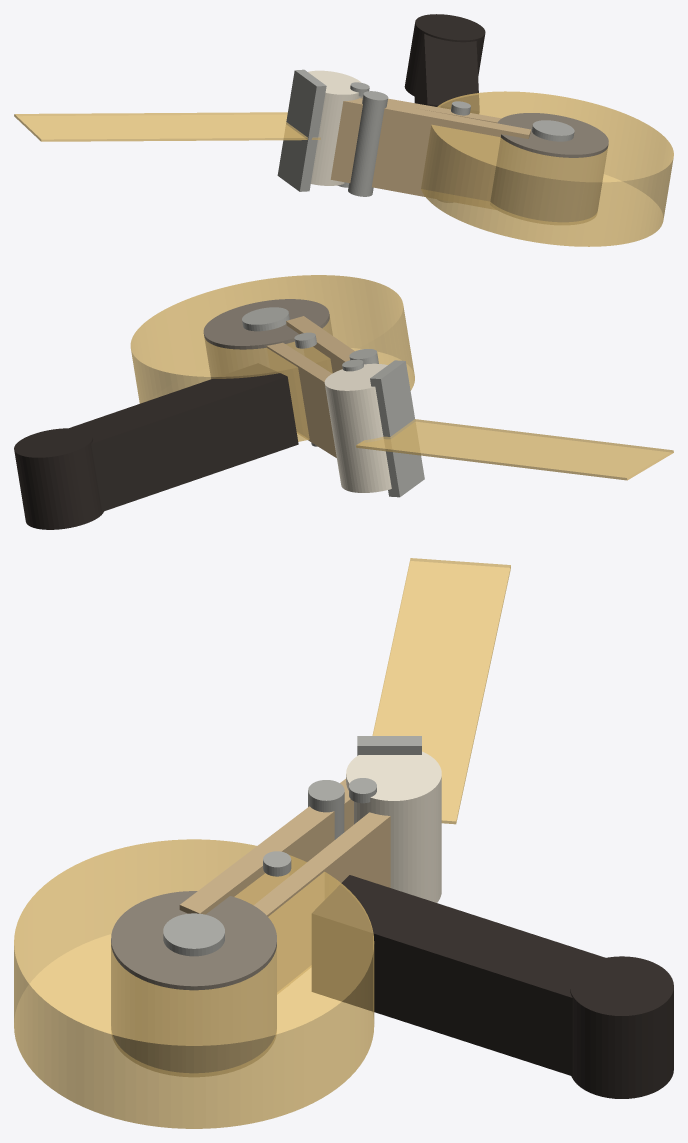
The model's file is almoxa-tape-gun.glb.
3 renders of one model, top to bottom at view 1: azimuth 30°, elevation 25°; view 2: azimuth 150°, elevation 25°; view 3: azimuth 270°, elevation 25°, orthographic. The views are drawn at different scales.
Parts seen in each view (by area): view 1: TapeRoll, FrameUpper, RollCore, TapeStrip, Handle, Cutter, PressureRoller, TensionBar, HandleCap, RollHub, FrameLower; view 2: Handle, TapeRoll, TapeStrip, HandleCap, PressureRoller, RollCore, Cutter, FrameLower, FrameUpper, RollHub; view 3: TapeRoll, Handle, RollCore, TapeStrip, HandleCap, PressureRoller, FrameLower, FrameUpper, RollHub, TensionBar, Cutter.
Part boxes in pixels (x1,y1,x2,y2): TapeRoll: (421, 91, 673, 246); FrameUpper: (330, 98, 530, 209); RollCore: (490, 113, 608, 224); TapeStrip: (14, 112, 320, 141); Handle: (414, 34, 479, 113); Cutter: (277, 69, 326, 191); PressureRoller: (308, 70, 362, 185); TensionBar: (348, 91, 388, 196); HandleCap: (404, 14, 485, 95); RollHub: (532, 120, 574, 141); FrameLower: (362, 97, 501, 123); Handle: (69, 363, 298, 511); TapeRoll: (130, 275, 414, 441); TapeStrip: (356, 419, 673, 480); HandleCap: (14, 428, 103, 529); PressureRoller: (324, 363, 391, 492); RollCore: (203, 299, 332, 378); Cutter: (370, 360, 424, 497); FrameLower: (266, 342, 336, 457); FrameUpper: (286, 316, 354, 373); RollHub: (242, 307, 289, 331); TapeRoll: (14, 839, 374, 1128); Handle: (312, 875, 605, 1076); RollCore: (111, 891, 276, 1076); TapeStrip: (372, 558, 510, 824); HandleCap: (570, 956, 673, 1098); PressureRoller: (346, 751, 441, 902); FrameLower: (254, 812, 390, 993); FrameUpper: (179, 779, 353, 914); RollHub: (163, 913, 224, 956); TensionBar: (308, 780, 344, 839); Cutter: (357, 736, 421, 755).
Bounding box in the file's own units: 6.51 × 1.55 × 4.69.
